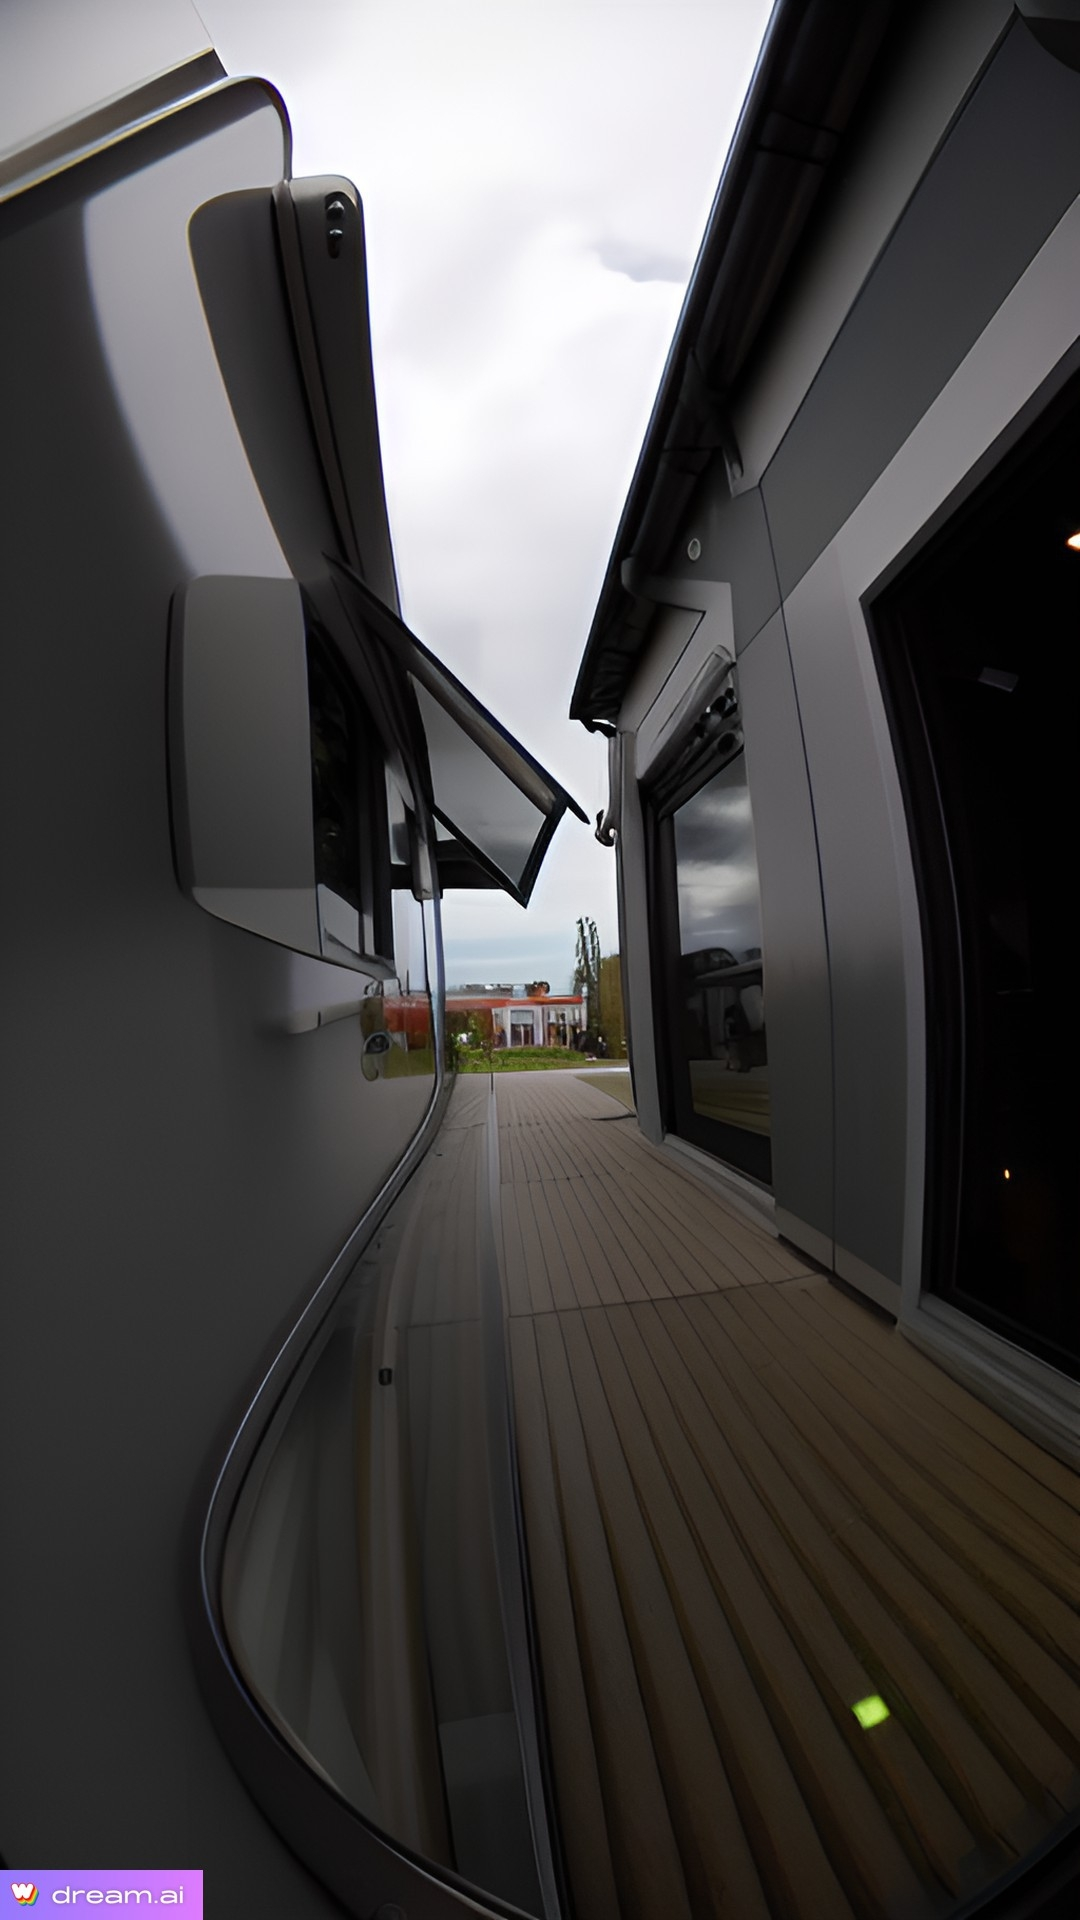window_back: (291, 526, 587, 982)
